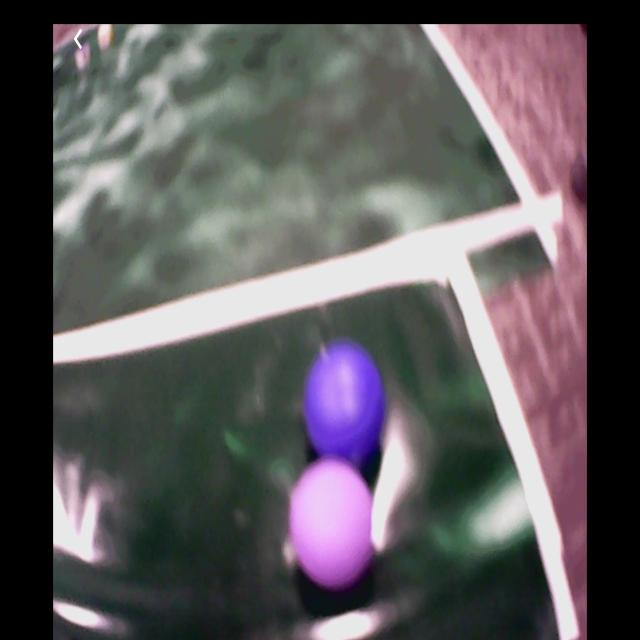ball: (292, 458, 376, 586), (306, 346, 382, 462)
